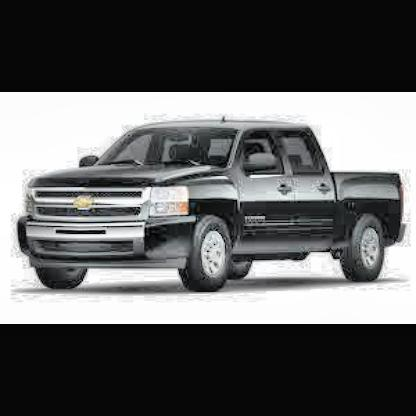Chevrolet Silverado 1500 Hybrid Crew Cab 2012: (19, 119, 407, 295)
